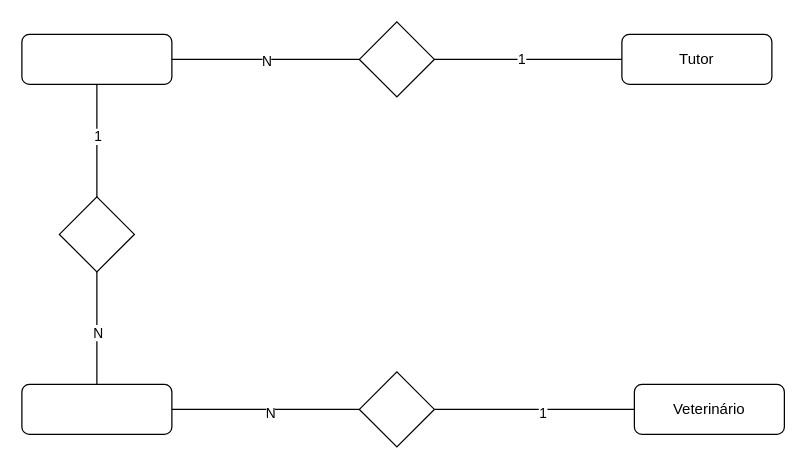
The diagram is 806 pixels wide and 469 high, and some of its shapes have lost their labels. The centre of each missing label's shape, as x and y in pixels:
"Animal" belongs at [96,58].
"Consultas" belongs at [96,408].
